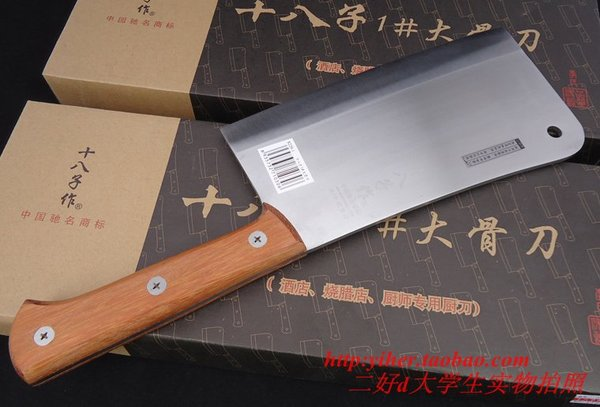knief: (31, 29, 579, 390)
